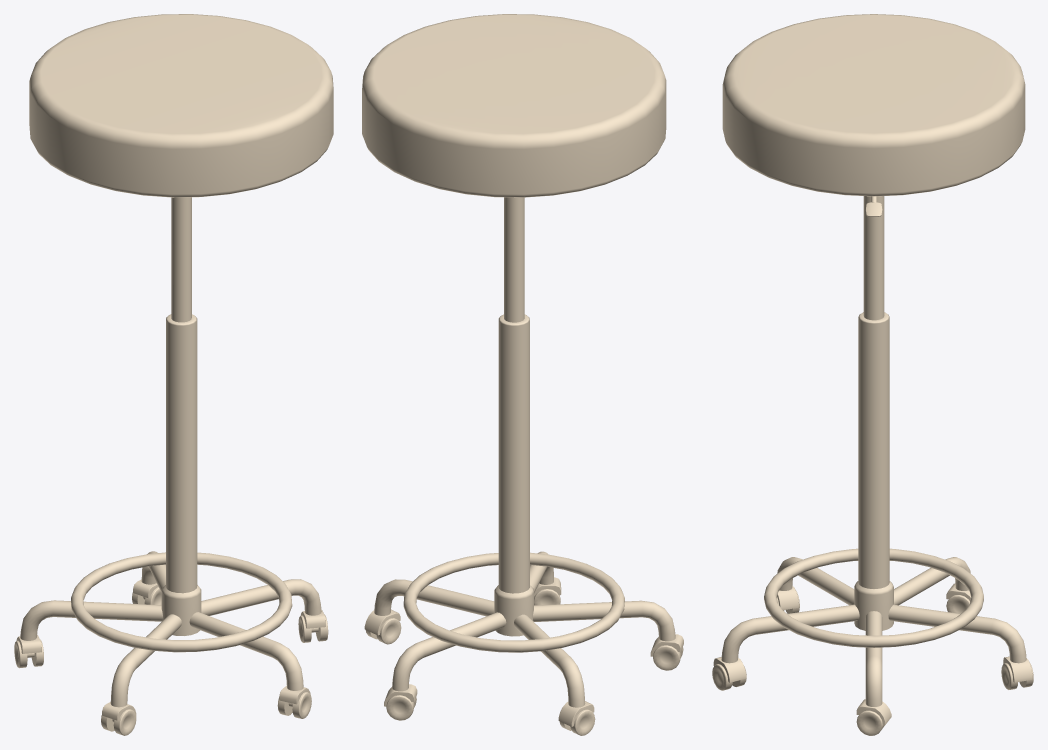
The model's file is screw_chair.fbx.
3 views of the same model, side by side, from view 1: azimuth 30°, elevation 25°; view 2: azimuth 150°, elevation 25°; view 3: azimuth 270°, elevation 25° (orthographic).
Visible parts, largest first — view 1: screw_chair, screw_chair_base; view 2: screw_chair, screw_chair_base; view 3: screw_chair, screw_chair_base.
Boxes of the visible parts, bbox=[...] form: screw_chair: bbox=[29, 14, 333, 322]; screw_chair_base: bbox=[14, 314, 328, 735]; screw_chair: bbox=[362, 14, 666, 322]; screw_chair_base: bbox=[364, 314, 683, 735]; screw_chair: bbox=[722, 14, 1025, 320]; screw_chair_base: bbox=[712, 312, 1033, 735].
Size of the model in its own units: 31.94 by 65.87 by 32.34.
